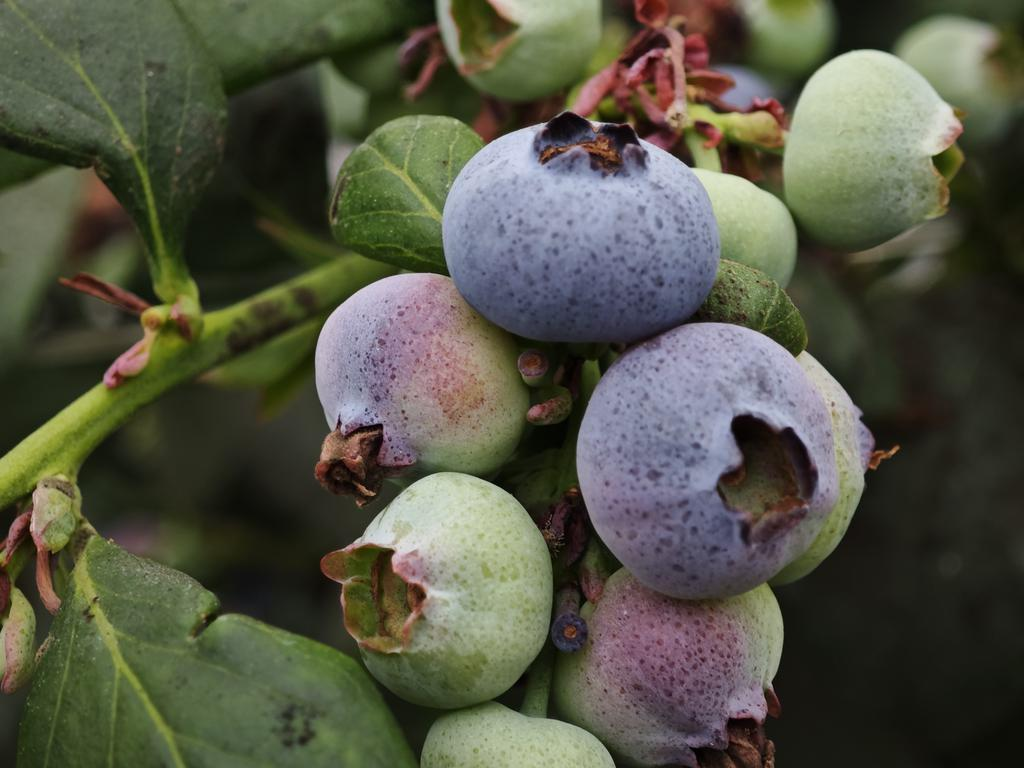RipeBlueBerry: (572, 315, 846, 606), (439, 107, 724, 347)
Semi-RipeBlueBerry: (309, 267, 530, 478)
UnripeBlueBerry: (323, 467, 558, 712)
